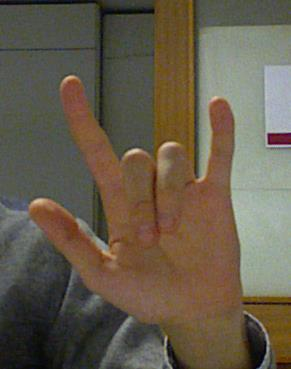back: (26, 74, 246, 325)
